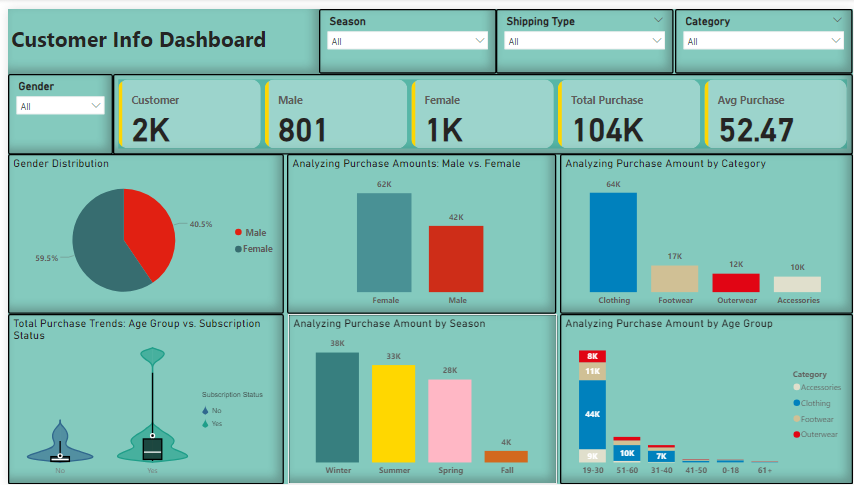

What the dashboard file says about the page in this screenshot:
{"tool":"powerbi","page":{"name":"OverView Dashboard","canvas":[1280,720],"ordinal":0},"visuals":[{"type":"cardVisual","fields":{"Data":["_Measures.CustomerCount","_Measures.Numb. of Male","_Measures.Numb. of Female","_Measures.TotalSales","_Measures.AvgPurchase"]},"box":[158.7,97.8,1121.1,121.9],"z":0},{"type":"slicer","fields":{"Values":["customers_info.Category"]},"box":[1010.6,0,269.3,97.8],"z":1000},{"type":"slicer","fields":{"Values":["customers_info.Shipping Type"]},"box":[739.8,0,269.3,97.8],"z":2000},{"type":"slicer","fields":{"Values":["customers_info.Season"]},"box":[470.6,0,269.3,97.8],"z":3000},{"type":"slicer","fields":{"Values":["customers_info.Gender"]},"box":[0,97.8,158.7,121.9],"z":4000},{"type":"pieChart","title":"Gender Distribution ","fields":{"Y":["_Measures.% Male","_Measures.% Female"]},"box":[0,219.7,418.1,242.4],"z":5000},{"type":"violinPlot4D46EB9EB3A141D9BA2289793175D971","title":"Total Purchase Trends: Age Group vs. Subscription Status","fields":{"category":["customers_info.Subscription Status"],"measure":["_Measures.TotalSales"],"sampling":["customers_info.Age Group"]},"box":[0,462,418.1,258],"z":6000},{"type":"columnChart","title":"Analyzing Purchase Amounts: Male vs. Female","fields":{"Category":["customers_info.Gender"],"Y":["_Measures.TotalSales"]},"box":[422.4,219.7,408.2,242.4],"z":7000},{"type":"columnChart","title":"Analyzing Purchase Amount by Category","fields":{"Y":["_Measures.TotalSales"],"Category":["customers_info.Category"]},"box":[836.2,219.7,443.6,242.4],"z":8000},{"type":"columnChart","title":"Analyzing Purchase Amount by Season","fields":{"Y":["_Measures.TotalSales"],"Category":["customers_info.Season"]},"box":[423.8,462,408.2,258],"z":9000},{"type":"columnChart","title":"Analyzing Purchase Amount by Age Group","fields":{"Y":["_Measures.TotalSales"],"Category":["customers_info.Age Group"],"Series":["customers_info.Category"]},"box":[836.2,462,443.6,258],"z":10000},{"type":"textbox","box":[0,0,470.6,97.8],"z":11000}]}

Visuals, with their boxes in screenshot pixels (x1, y1, x2, y2), scaled from the page's 1280x720 canvas onto the 854x485 screenshot:
cardVisual - _Measures.CustomerCount x _Measures.Numb. of Male: bbox=[106, 66, 853, 148]
slicer - customers_info.Category: bbox=[674, 0, 853, 66]
slicer - customers_info.Shipping Type: bbox=[494, 0, 673, 66]
slicer - customers_info.Season: bbox=[314, 0, 494, 66]
slicer - customers_info.Gender: bbox=[0, 66, 106, 148]
"Gender Distribution " pieChart: bbox=[0, 148, 279, 311]
"Total Purchase Trends: Age Group vs. Subscription Status" violinPlot4D46EB9EB3A141D9BA2289793175D971: bbox=[0, 311, 279, 484]
"Analyzing Purchase Amounts: Male vs. Female" columnChart: bbox=[282, 148, 554, 311]
"Analyzing Purchase Amount by Category" columnChart: bbox=[558, 148, 853, 311]
"Analyzing Purchase Amount by Season" columnChart: bbox=[283, 311, 555, 484]
"Analyzing Purchase Amount by Age Group" columnChart: bbox=[558, 311, 853, 484]
textbox: bbox=[0, 0, 314, 66]
